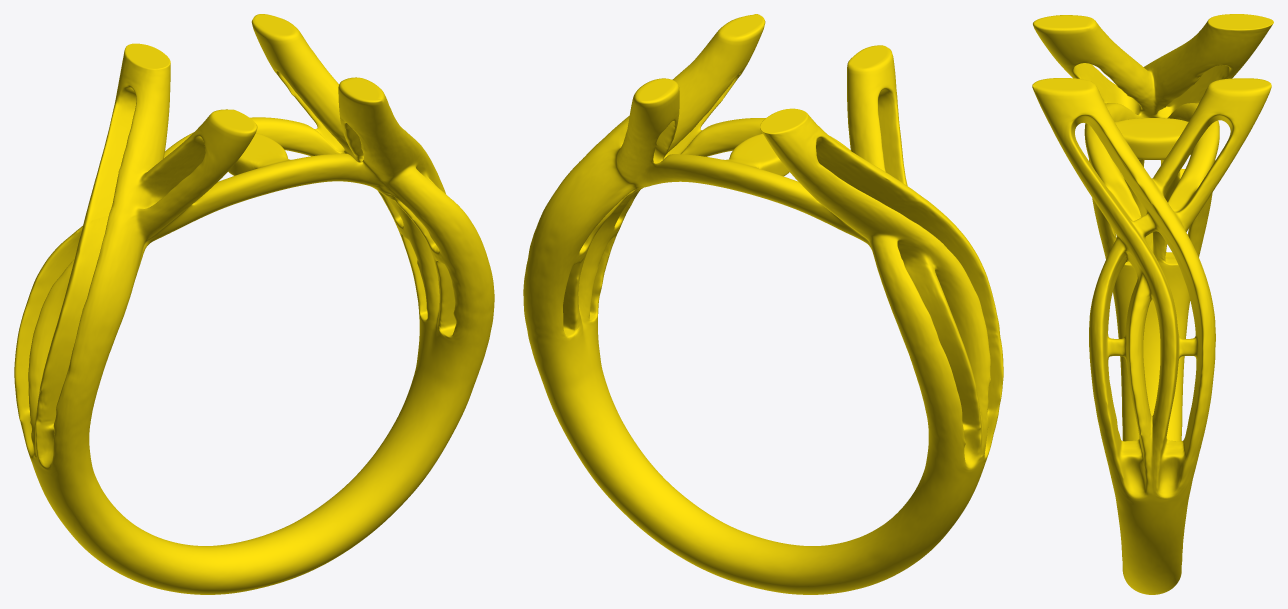
Rendered from Shank_Twist_Channel_B_Single Halo_Band.glb.
The picture shows the model from 3 angles, left to right: view 1: azimuth 30°, elevation 25°; view 2: azimuth 150°, elevation 25°; view 3: azimuth 270°, elevation 25°; orthographic projection.
Bounding box in the file's own units: 0.0214 × 0.0236 × 0.01.
